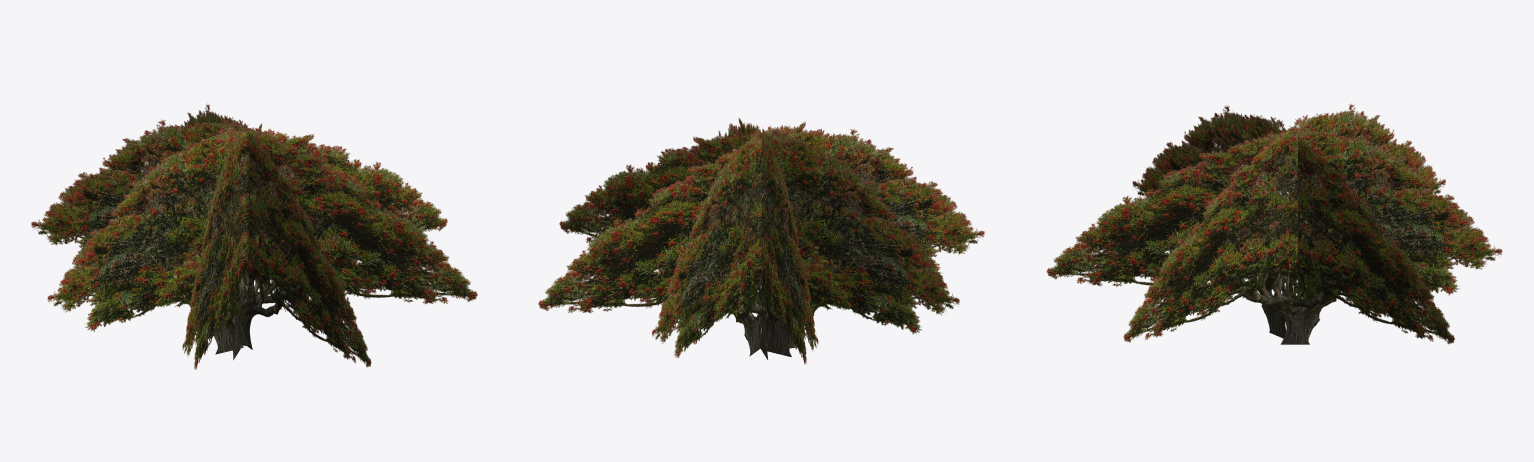
The model's file is Ceibo.glb.
3 views of the same model, side by side, from view 1: azimuth 30°, elevation 25°; view 2: azimuth 150°, elevation 25°; view 3: azimuth 270°, elevation 25° (orthographic).
Parts seen in each view (by area): view 1: Ceibo (Erythrina crista-galli).002; view 2: Ceibo (Erythrina crista-galli).002; view 3: Ceibo (Erythrina crista-galli).002.
Part boxes in pixels (x1,y1,x2,y2): Ceibo (Erythrina crista-galli).002: [31, 103, 477, 369]; Ceibo (Erythrina crista-galli).002: [538, 117, 984, 364]; Ceibo (Erythrina crista-galli).002: [1046, 103, 1502, 344].
Size of the model in its own units: 4.12 by 2.12 by 4.12.
4 materials, 4 textured.
